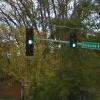Traffic light: (19, 21, 88, 64)
